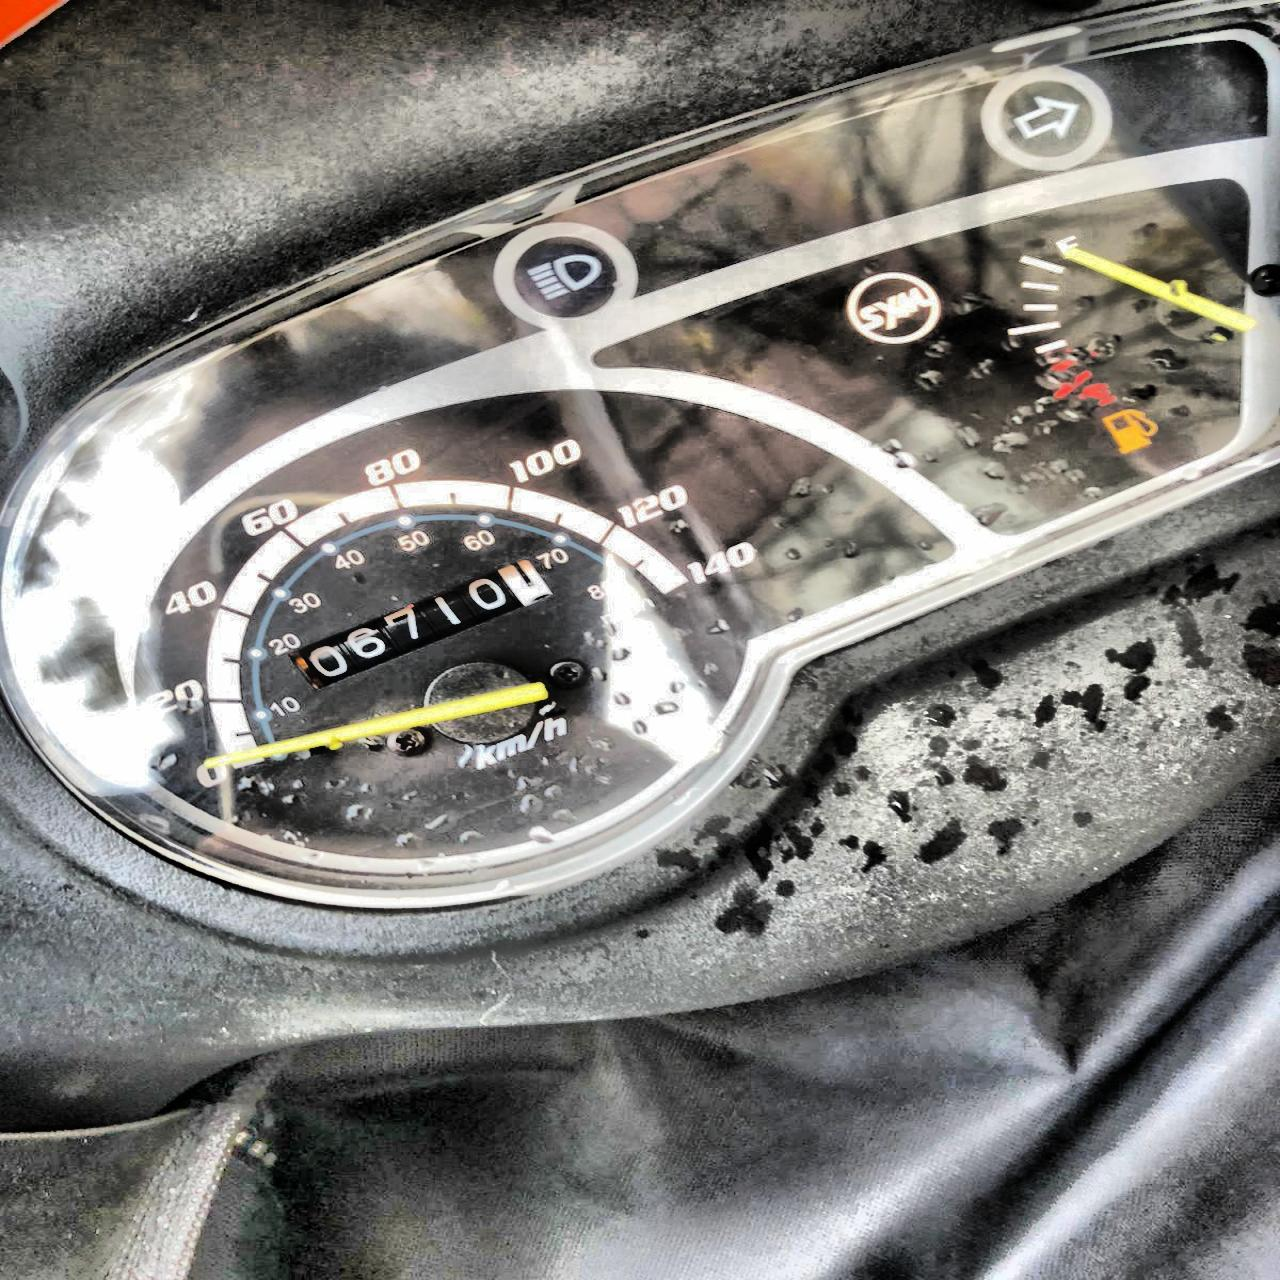0: (464, 576, 505, 613), (306, 646, 349, 679), (301, 592, 322, 608), (282, 633, 300, 649)
1: (433, 592, 459, 628), (509, 558, 533, 591)
3: (288, 597, 305, 613)
4: (334, 552, 349, 572)
6: (343, 627, 388, 659)
7: (382, 608, 424, 641), (537, 552, 551, 568)
odometer: (281, 556, 557, 692)
